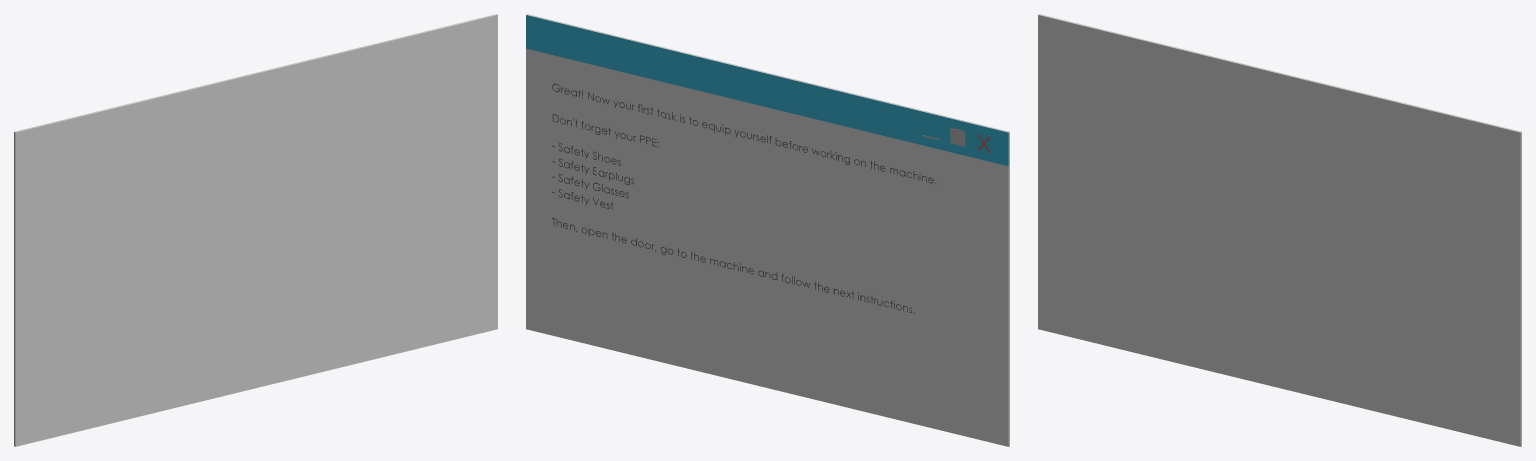
File: FirstPanel.glb
3 views of the same model, side by side, from view 1: azimuth 30°, elevation 25°; view 2: azimuth 150°, elevation 25°; view 3: azimuth 330°, elevation 25° (orthographic).
Parts seen in each view (by area): view 1: FirstPanel; view 2: FirstPanel; view 3: FirstPanel.
Boxes of the visible parts, x1=… form: FirstPanel: x1=14, y1=14, x2=497, y2=446; FirstPanel: x1=526, y1=14, x2=1009, y2=446; FirstPanel: x1=1038, y1=14, x2=1521, y2=446.
Size of the model in its own units: 0.5625 by 0.35 by 0.00251.
